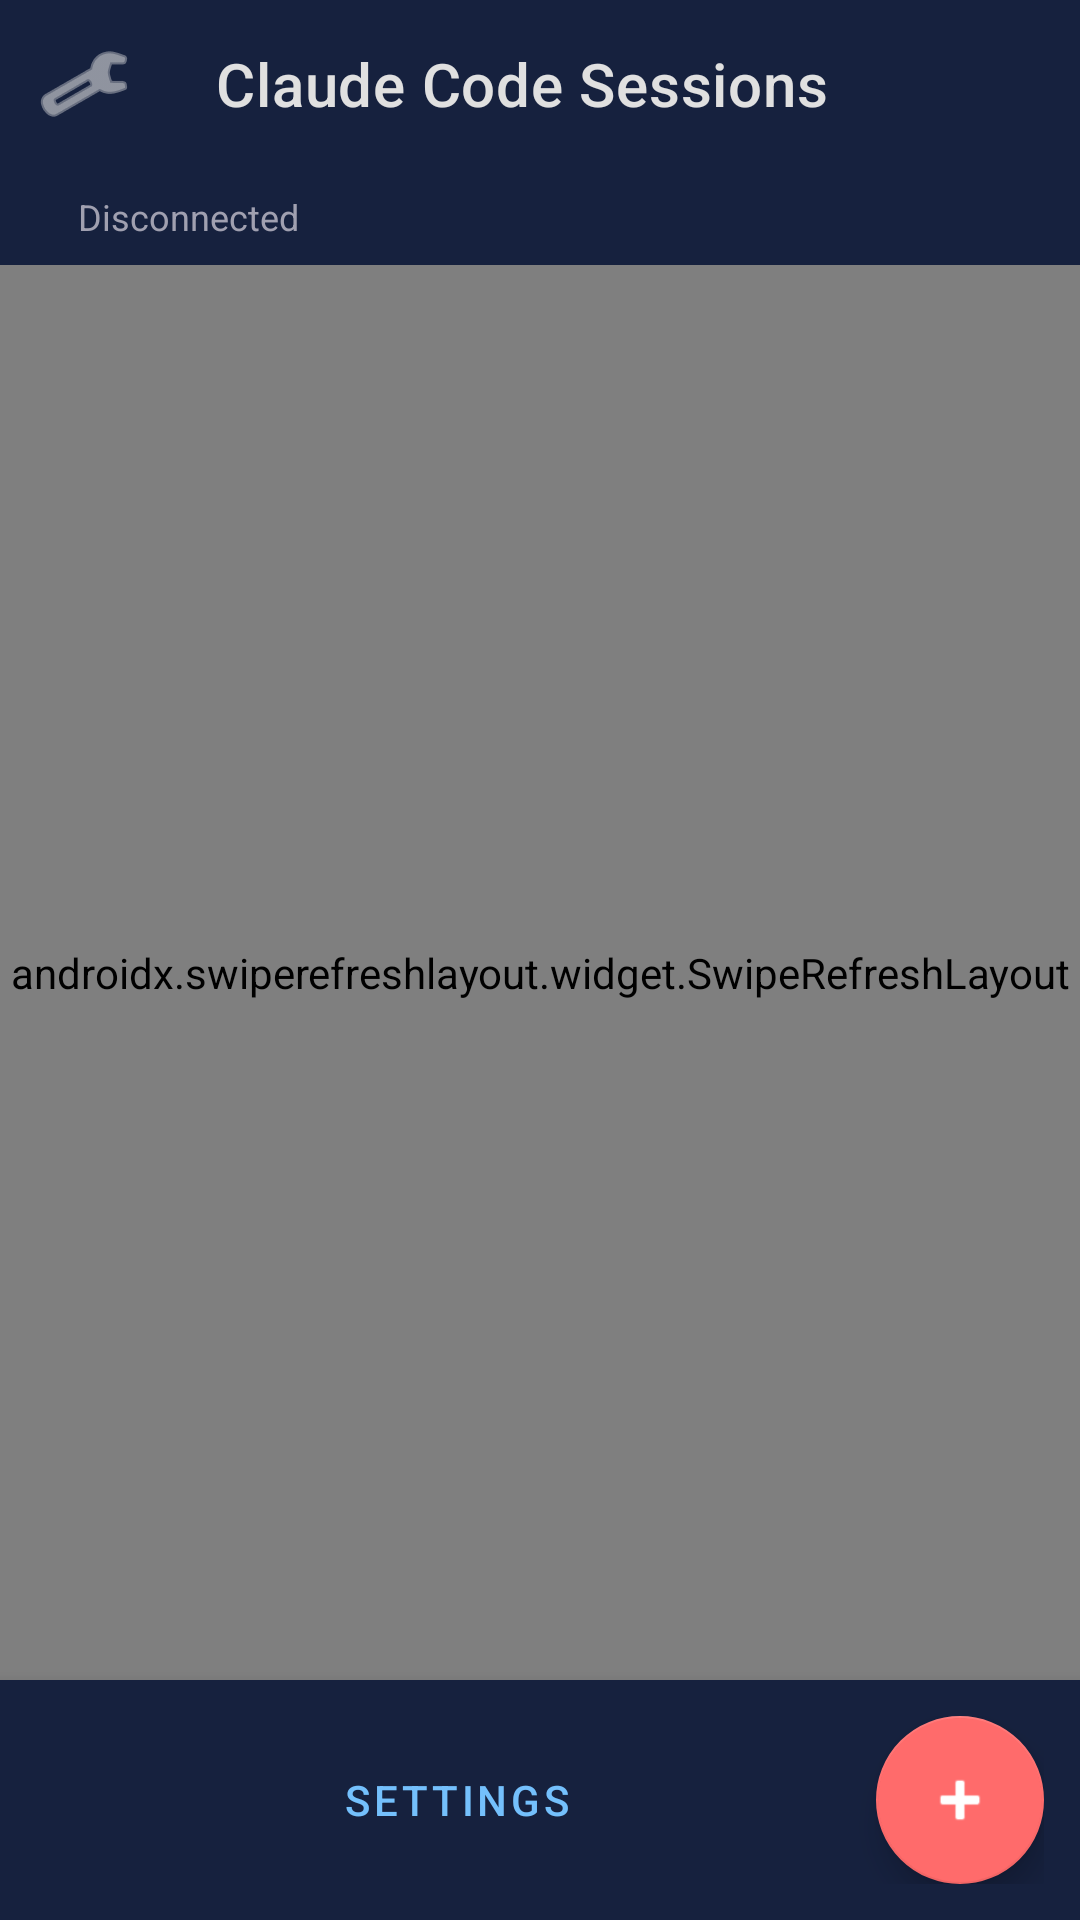

Icons on this 1080px x 1920px Android screen, each with its box as box(x1, y1, x2, y2):
New Session: box(876, 1716, 1044, 1884)
